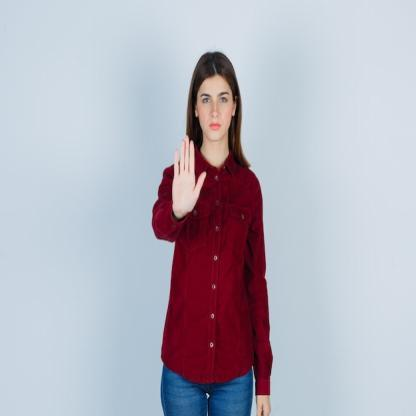stop: (171, 134, 209, 222)
